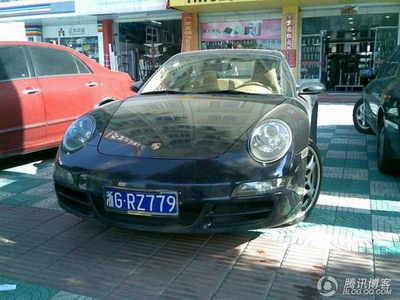plate_number: (102, 185, 180, 216)
